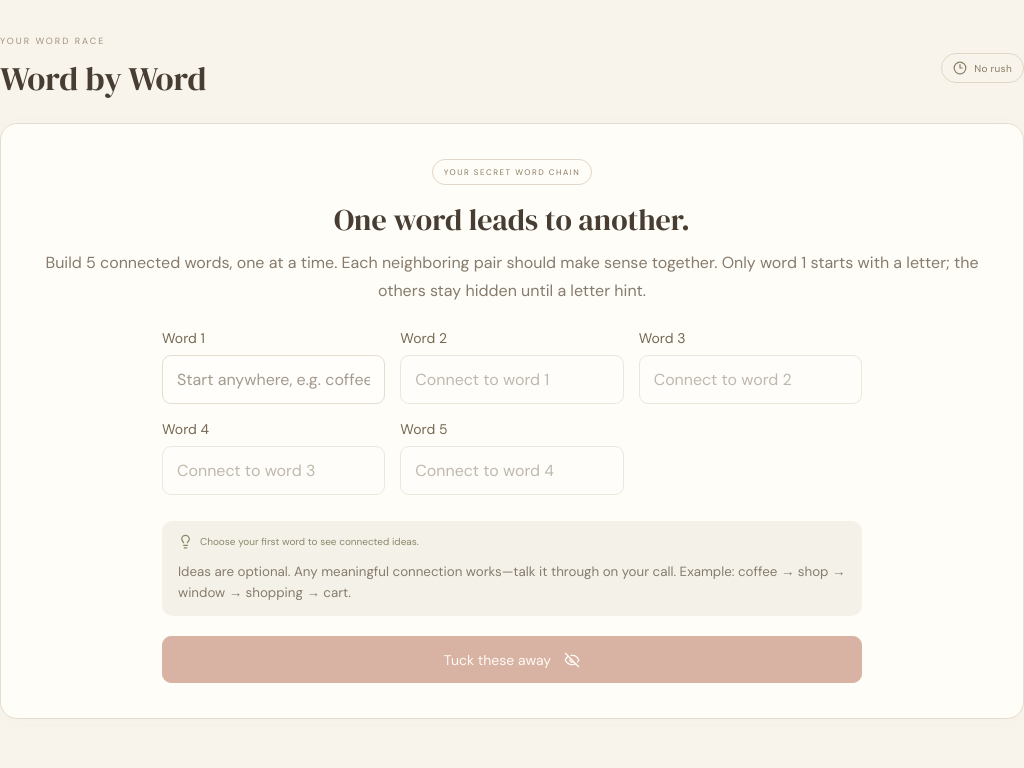
cozy home and game forms › suggests connected words live and stores only their first letters in shared state
Later steps or results of the test are not shown.
Expected: the field labelled "Word 2" is disabled, [400,355,624,404]
Type "coffee" into the field labelled "Word 1" at [274, 379], box [162,355,385,404]
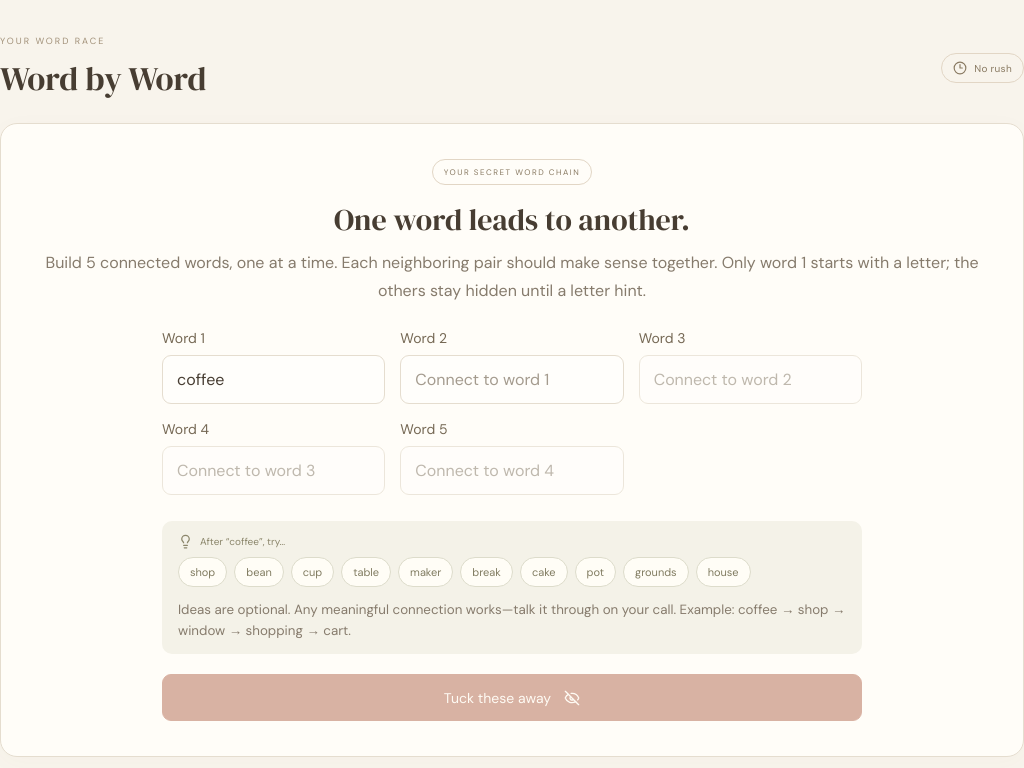
Result: the text "After “coffee”, try…" is shown at [178,534,285,549]
